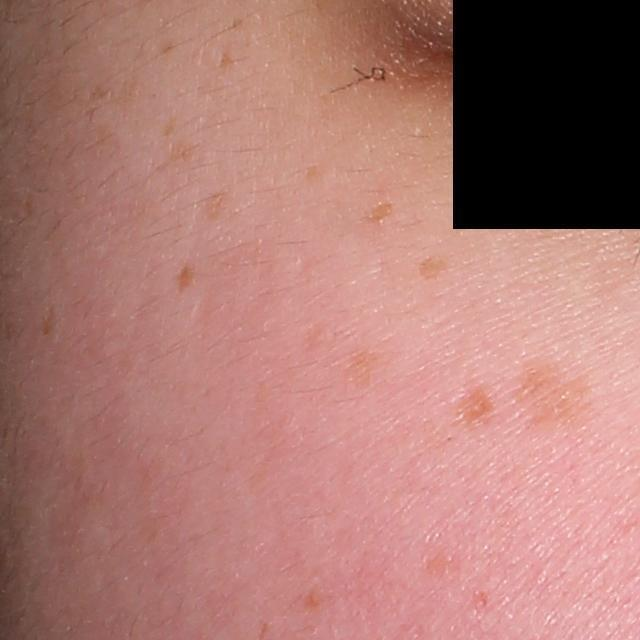melasma: (509, 365, 599, 445), (441, 369, 488, 431), (337, 348, 375, 389), (193, 184, 231, 220), (354, 201, 396, 231), (411, 255, 458, 281), (166, 263, 194, 293), (296, 163, 321, 188)
